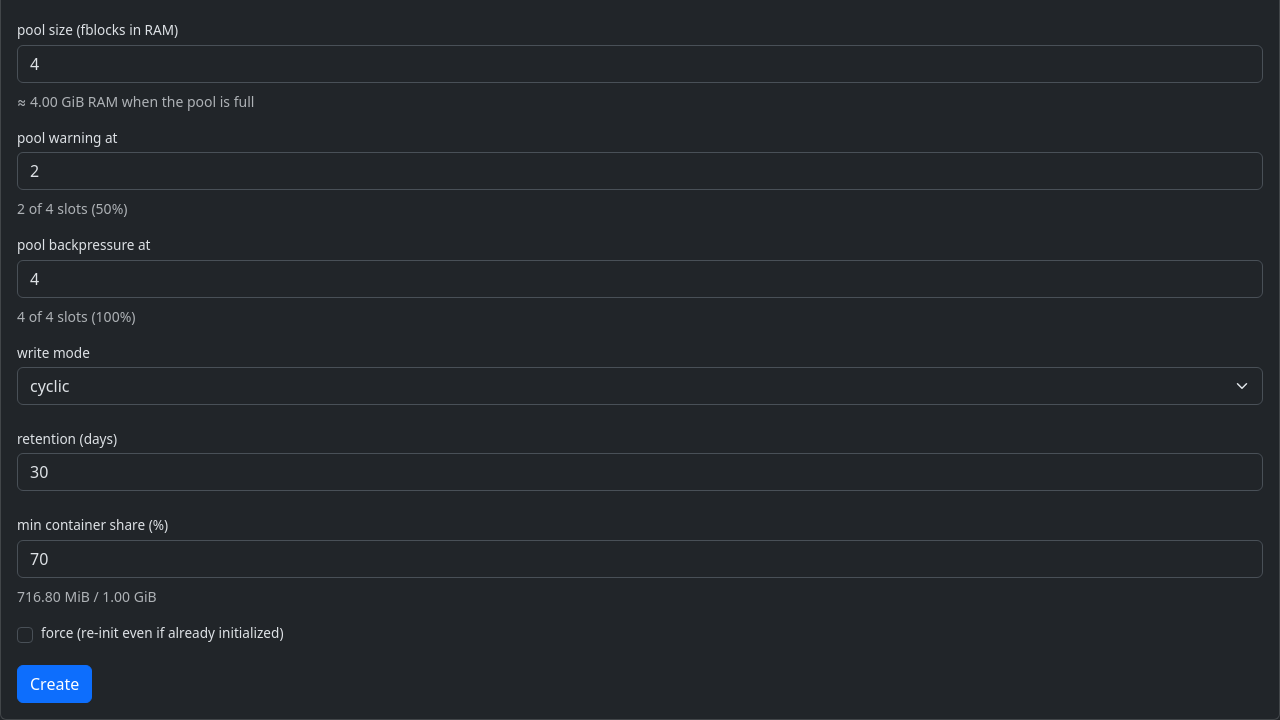
Test case: StorageNewPage min container share field › updates the absolute size helper when the percentage changes
(page scrolled)
Replace the text in the number field labelled "min container share (%)" with "50" at [640, 559], box [17,540,1263,578]
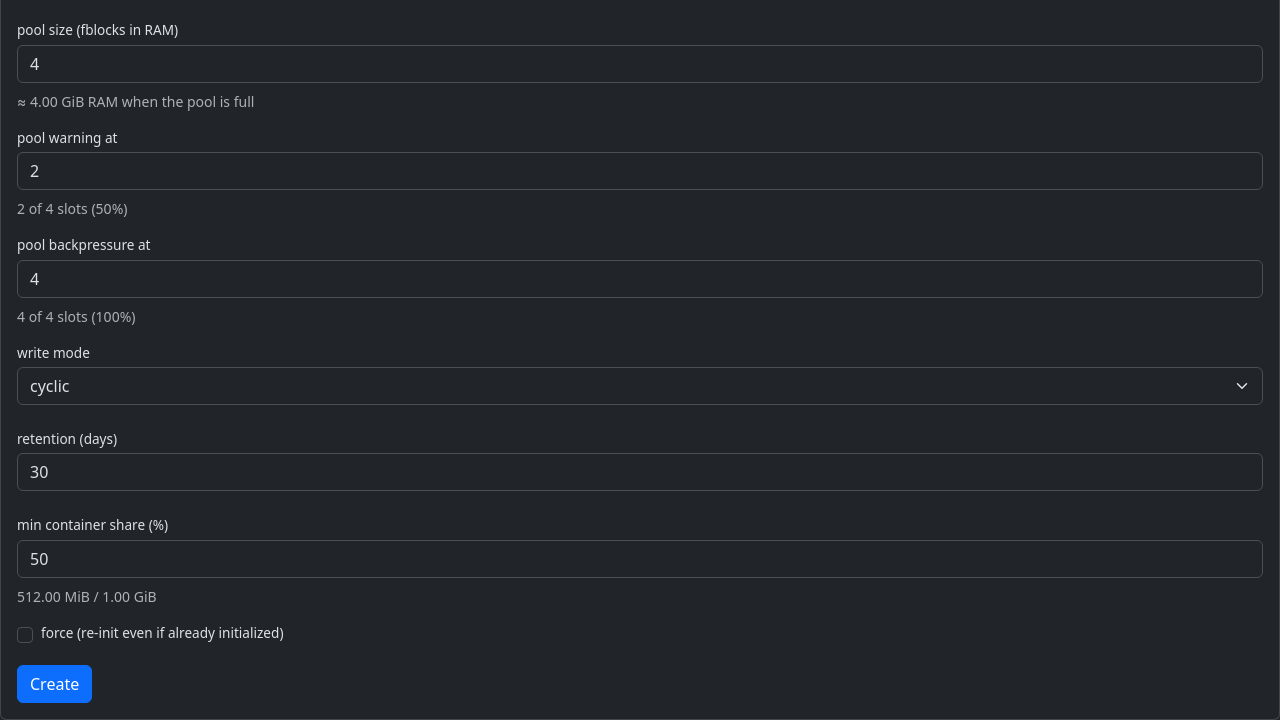
Result: the text "512.00 MiB / 1.00 GiB" is shown at [17,587,157,606]
